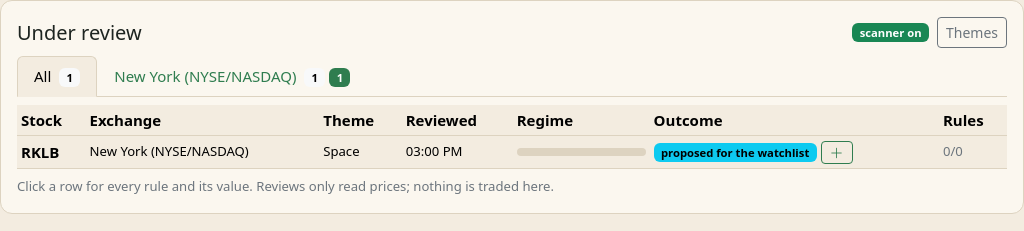
Scenario: ReviewBoard proposals (low autonomy) › adds a proposed share to the watchlist when the owner accepts it
Expected: the text "proposed for the watchlist" is shown, [654,143,817,162]
Click the button named "Add RKLB to the watchlist" at (837, 153), box [821,142,853,164]
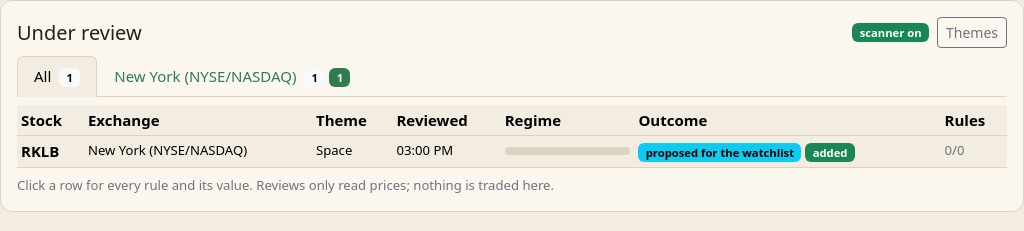
Expected: the text "added" is shown, [805,143,855,162]
